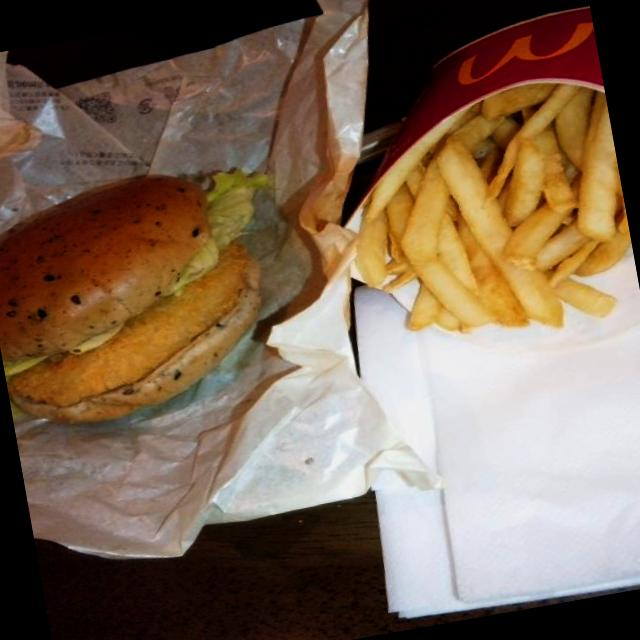French Fries: (337, 68, 639, 344)
Hamburger: (0, 136, 285, 436)
